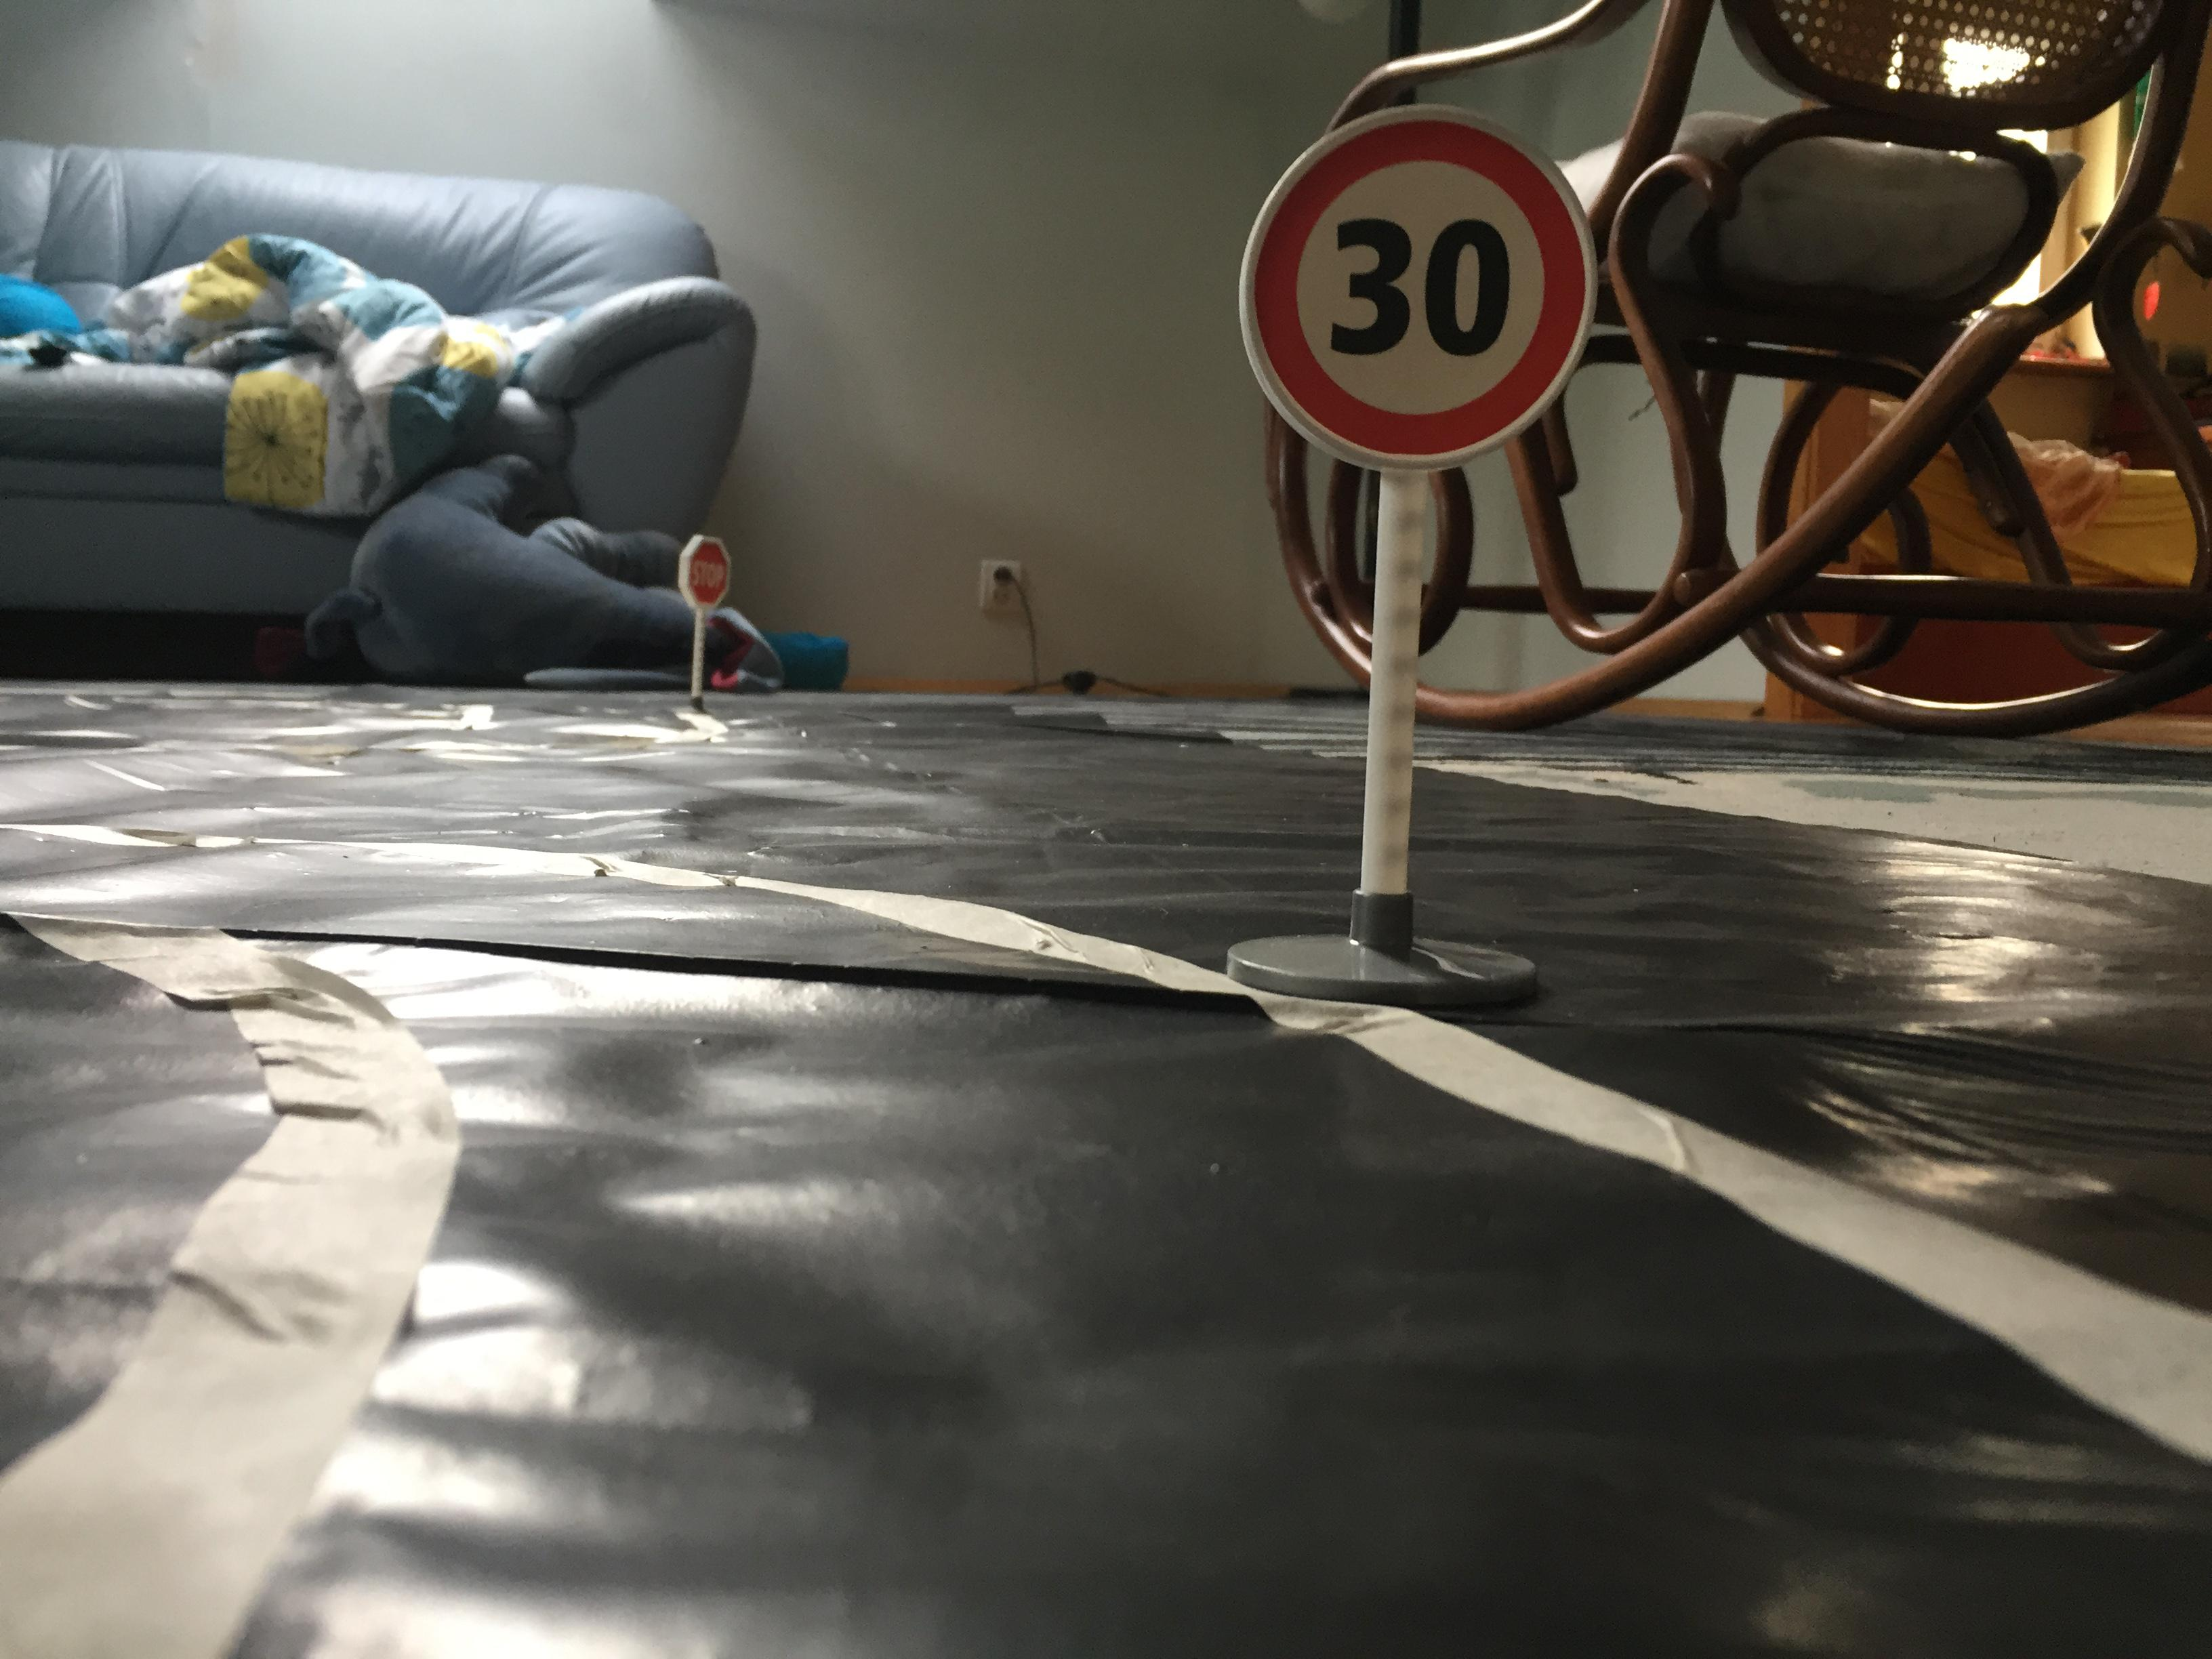speed: (1231, 98, 1604, 479)
